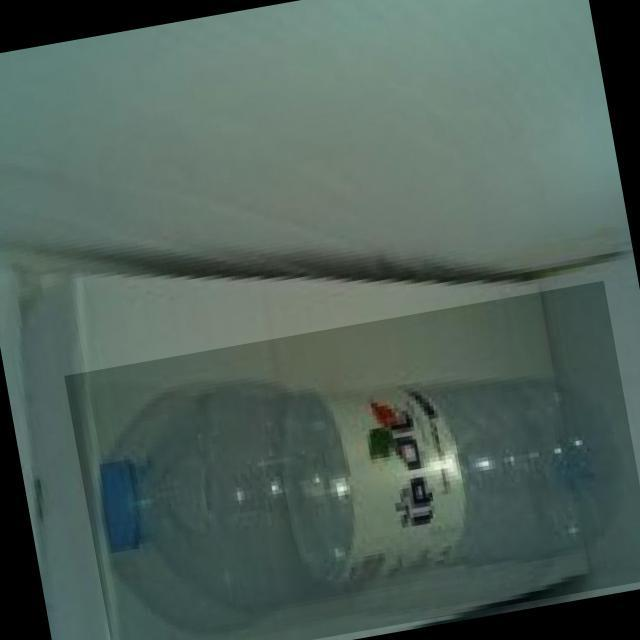good: (59, 279, 636, 640)
